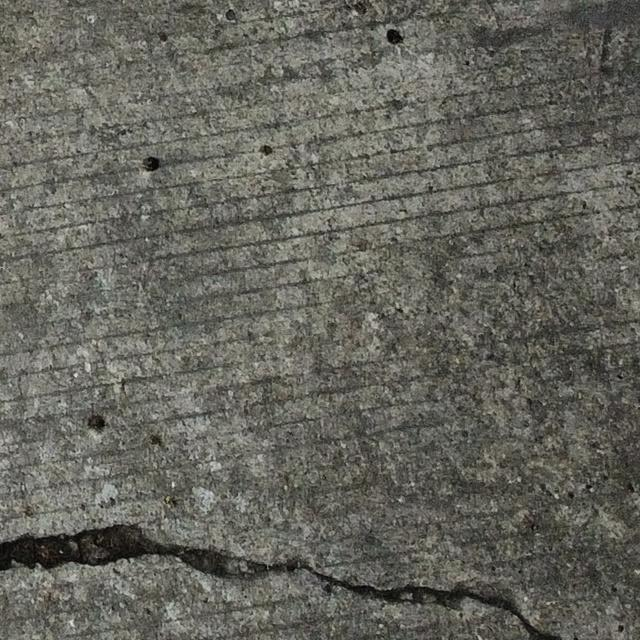TransverseCrack: (1, 526, 561, 640)
